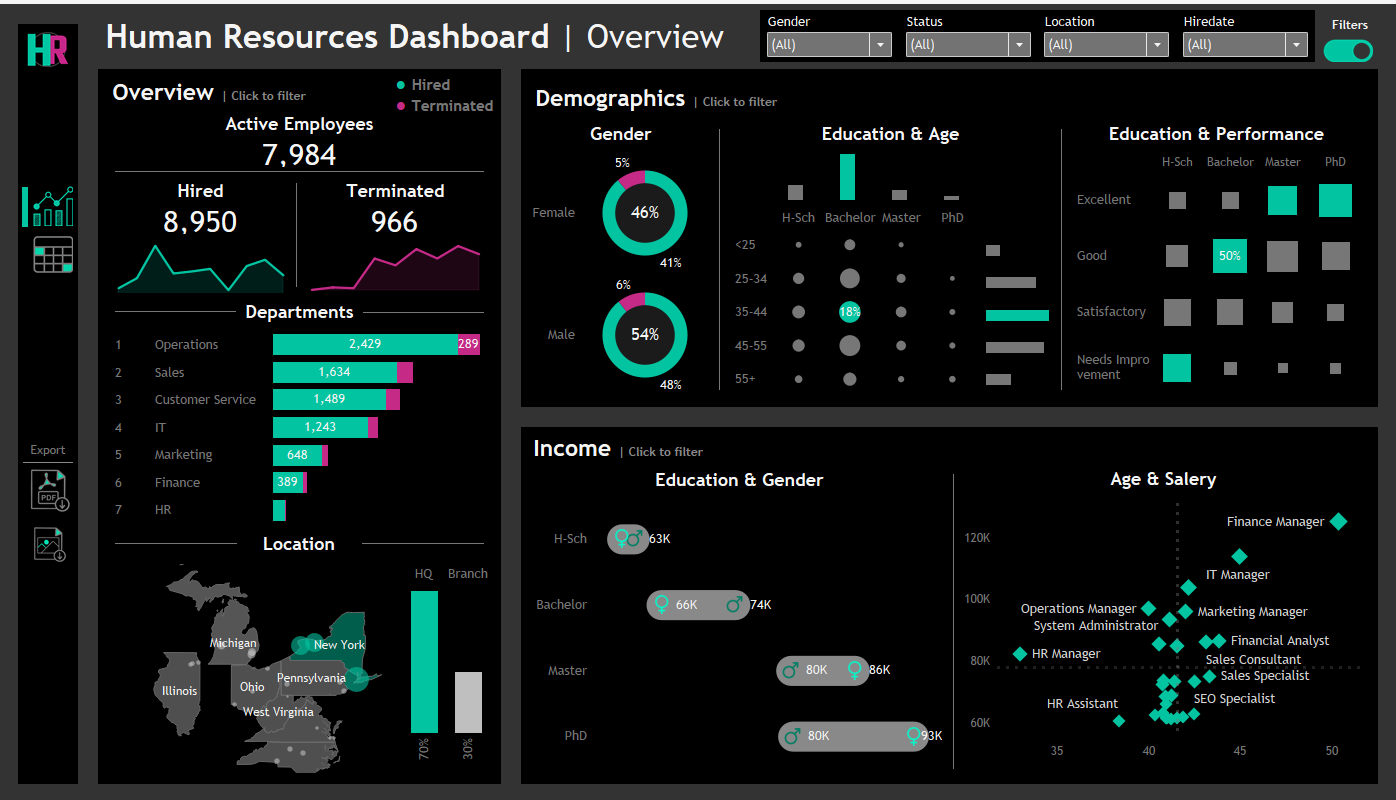

This screenshot's page, from the dashboard's own definition file:
{"tool":"tableau","page":{"name":"HR | OVERVIEW","canvas":[1400,800],"ordinal":1},"visuals":[{"type":"text","box":[100,0,1280,65]},{"type":"text","box":[1298,4,108,34]},{"type":"filter","title":"salary Gender vs education","param":"[federated.1c05rdu1i383xy185jcft0jlw95b].[none:Gender:nk]","box":[762,6,138.7,52]},{"type":"filter","title":"salary Gender vs education","param":"[federated.1c05rdu1i383xy185jcft0jlw95b].[none:Calculation_1897422869685473295:n","box":[900.7,6,138.7,52]},{"type":"filter","title":"salary Gender vs education","param":"[federated.1c05rdu1i383xy185jcft0jlw95b].[none:Calculation_1897422869630849030:n","box":[1039.5,6,138.7,52]},{"type":"filter","title":"salary Gender vs education","param":"[federated.1c05rdu1i383xy185jcft0jlw95b].[yr:Hiredate:ok]","box":[1178.2,6,138.8,52]},{"type":"image","param":"Image/Logo.png","box":[20,20,60,50]},{"type":"dashboard-object","box":[1325,26,50,42]},{"type":"text","box":[394,58,189,64]},{"type":"blank","box":[20,70,60,87]},{"type":"text","box":[107,72,389,32]},{"type":"text","box":[530,72,843,43]},{"type":"text","box":[107,104,389,31]},{"type":"text","box":[530,115,186,29]},{"type":"blank","box":[721,115,1,281]},{"type":"text","box":[727,115,331,29]},{"type":"blank","box":[1063,115,1,281]},{"type":"text","box":[1069,115,299,29]},{"type":"worksheet","title":"active","mark":"Automatic","box":[107,135,389,32]},{"type":"worksheet","title":"Gender","mark":"Pie","rows":["Gender"],"cols":["Calculation_1897422869636333576","Calculation_1897422869636333576"],"box":[530,144,186,252]},{"type":"worksheet","title":"education","mark":"Bar","rows":["Calculation_1897422869623980032"],"cols":["Education Level"],"box":[727,144,331,56]},{"type":"worksheet","title":"education vs performance","mark":"Square","rows":["Performance Rating"],"cols":["Education Level"],"box":[1069,144,299,252]},{"type":"blank","box":[20,157,60,10]},{"type":"blank","box":[20,167,60,268]},{"type":"blank","box":[107,167,389,2]},{"type":"text","box":[107,169,191,33]},{"type":"blank","box":[298,169,1,124]},{"type":"text","box":[299,169,196.9,33]},{"type":"dashboard-object","box":[35,182,40,40]},{"type":"blank","box":[24,183,6,40]},{"type":"worksheet","title":"Age vs Aducation","mark":"Pie","rows":["Calculation_1897422869639651338"],"cols":["Education Level"],"box":[727,200,257,196]},{"type":"worksheet","title":"Age groups","mark":"Bar","rows":["Calculation_1897422869639651338"],"cols":["Calculation_1897422869623980032"],"box":[984,200,74,196]},{"type":"worksheet","title":"hired","mark":"Automatic","box":[107,202,191,32]},{"type":"worksheet","title":"terminated","mark":"Automatic","box":[299,202,196.9,32]},{"type":"dashboard-object","box":[35,230,40,40]},{"type":"worksheet","title":"HIred By Year","mark":"Line","rows":["Calculation_1897422869623980032","Calculation_1897422869623980032"],"cols":["Hiredate"],"box":[107,234,191,59]},{"type":"worksheet","title":"Terminated By year","mark":"Line","rows":["Calculation_1897422869624262657","Calculation_1897422869624262657"],"cols":["Termdate"],"box":[299,234,196.9,59]},{"type":"blank","box":[107,293,131,30]},{"type":"text","box":[238,293,127,30]},{"type":"blank","box":[365,293,131,30]},{"type":"worksheet","title":"Departaments","mark":"Bar","rows":["Calculation_1897422869630083076","Department"],"cols":["Calculation_1897422869623980032"],"box":[107,323,389,201]},{"type":"text","box":[80,378,1319,40]},{"type":"blank","box":[80,418,1319,378]},{"type":"text","box":[528,428,847,32]},{"type":"text","box":[20,435,60,18]},{"type":"blank","box":[20,453,60,11]},{"type":"text","box":[528,460,427,32]},{"type":"blank","box":[955,460,1,315]},{"type":"text","box":[956,460,419,29]},{"type":"dashboard-object","box":[20,464,60,44]},{"type":"worksheet","title":"Age vs Salary","mark":"Shape","rows":["Salary"],"cols":["Calculation_1897422869638053897"],"box":[956,489,419,286]},{"type":"worksheet","title":"salary Gender vs education","mark":"Line","rows":["Education Level"],"cols":["Salary","Salary"],"box":[528,492,427,283]},{"type":"blank","box":[20,508,60,10]},{"type":"dashboard-object","box":[20,518,60,44]},{"type":"blank","box":[107,524,132.3,32]},{"type":"text","box":[239.3,524,124.3,32]},{"type":"blank","box":[363.6,524,132.3,32]},{"type":"worksheet","title":"map states","mark":"Automatic","box":[107,556,293,217]},{"type":"worksheet","title":"Location","mark":"Bar","rows":["Calculation_1897422869623980032"],"cols":["Calculation_1897422869630849030","Calculation1"],"box":[400,556,96,217]}]}

Visuals, with their boxes in screenshot pixels (x1, y1, x2, y2), scaled from the page's 1400x800 canvas onto the 1396x800 screenshot:
text: [100, 0, 1376, 65]
text: [1294, 4, 1395, 38]
"salary Gender vs education" filter: [760, 6, 898, 58]
"salary Gender vs education" filter: [898, 6, 1036, 58]
"salary Gender vs education" filter: [1037, 6, 1175, 58]
"salary Gender vs education" filter: [1175, 6, 1313, 58]
image: [20, 20, 80, 70]
dashboard-object: [1321, 26, 1371, 68]
text: [393, 58, 581, 122]
blank: [20, 70, 80, 157]
text: [107, 72, 495, 104]
text: [528, 72, 1369, 115]
text: [107, 104, 495, 135]
text: [528, 115, 714, 144]
blank: [719, 115, 720, 396]
text: [725, 115, 1055, 144]
blank: [1060, 115, 1061, 396]
text: [1066, 115, 1364, 144]
"active" worksheet: [107, 135, 495, 167]
"Gender" worksheet (Pie marks): [528, 144, 714, 396]
"education" worksheet (Bar marks): [725, 144, 1055, 200]
"education vs performance" worksheet (Square marks): [1066, 144, 1364, 396]
blank: [20, 157, 80, 167]
blank: [20, 167, 80, 435]
blank: [107, 167, 495, 169]
text: [107, 169, 297, 202]
blank: [297, 169, 298, 293]
text: [298, 169, 494, 202]
dashboard-object: [35, 182, 75, 222]
blank: [24, 183, 30, 223]
"Age vs Aducation" worksheet (Pie marks): [725, 200, 981, 396]
"Age groups" worksheet (Bar marks): [981, 200, 1055, 396]
"hired" worksheet: [107, 202, 297, 234]
"terminated" worksheet: [298, 202, 494, 234]
dashboard-object: [35, 230, 75, 270]
"HIred By Year" worksheet (Line marks): [107, 234, 297, 293]
"Terminated By year" worksheet (Line marks): [298, 234, 494, 293]
blank: [107, 293, 237, 323]
text: [237, 293, 364, 323]
blank: [364, 293, 495, 323]
"Departaments" worksheet (Bar marks): [107, 323, 495, 524]
text: [80, 378, 1395, 418]
blank: [80, 418, 1395, 796]
text: [526, 428, 1371, 460]
text: [20, 435, 80, 453]
blank: [20, 453, 80, 464]
text: [526, 460, 952, 492]
blank: [952, 460, 953, 775]
text: [953, 460, 1371, 489]
dashboard-object: [20, 464, 80, 508]
"Age vs Salary" worksheet (Shape marks): [953, 489, 1371, 775]
"salary Gender vs education" worksheet (Line marks): [526, 492, 952, 775]
blank: [20, 508, 80, 518]
dashboard-object: [20, 518, 80, 562]
blank: [107, 524, 239, 556]
text: [239, 524, 363, 556]
blank: [363, 524, 494, 556]
"map states" worksheet: [107, 556, 399, 773]
"Location" worksheet (Bar marks): [399, 556, 495, 773]
